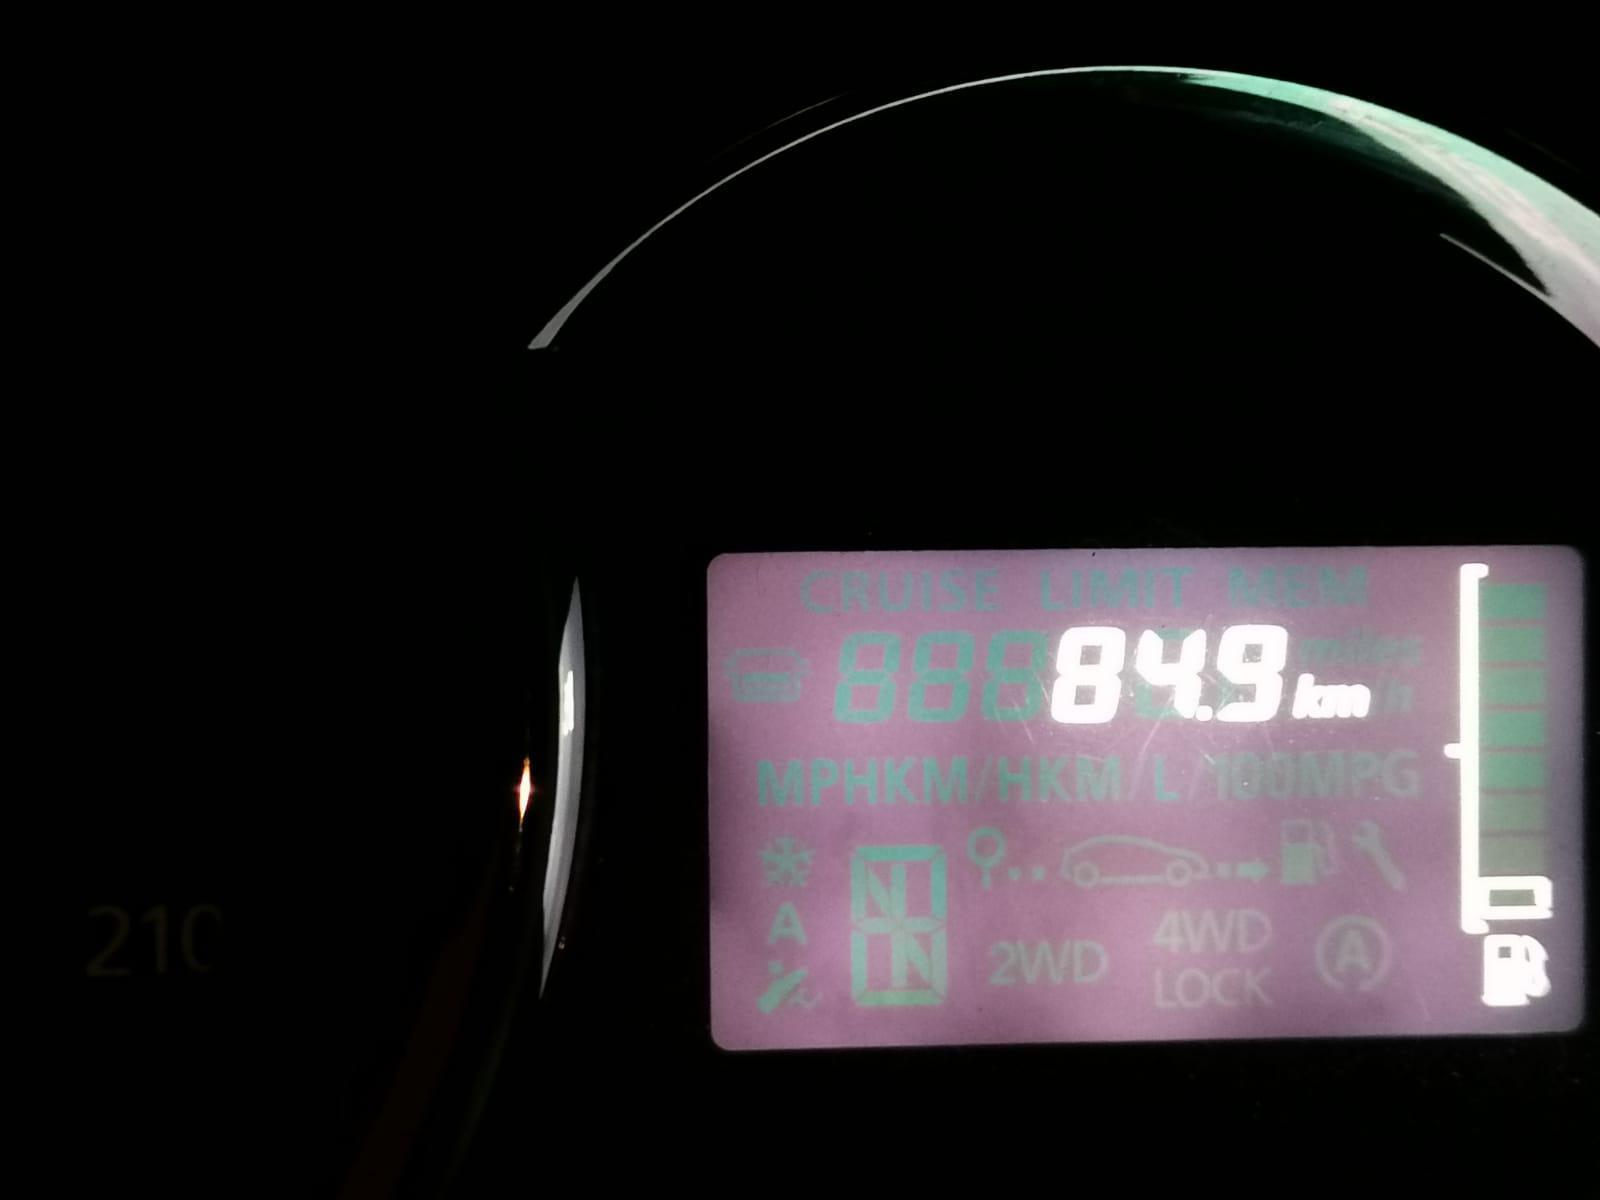,: (1194, 705, 1213, 724)
4: (1133, 626, 1208, 720)
8: (1047, 624, 1128, 725)
9: (1214, 623, 1289, 724)
X: (1325, 682, 1371, 718), (1291, 671, 1324, 720)
odometer: (695, 534, 1596, 1060)
